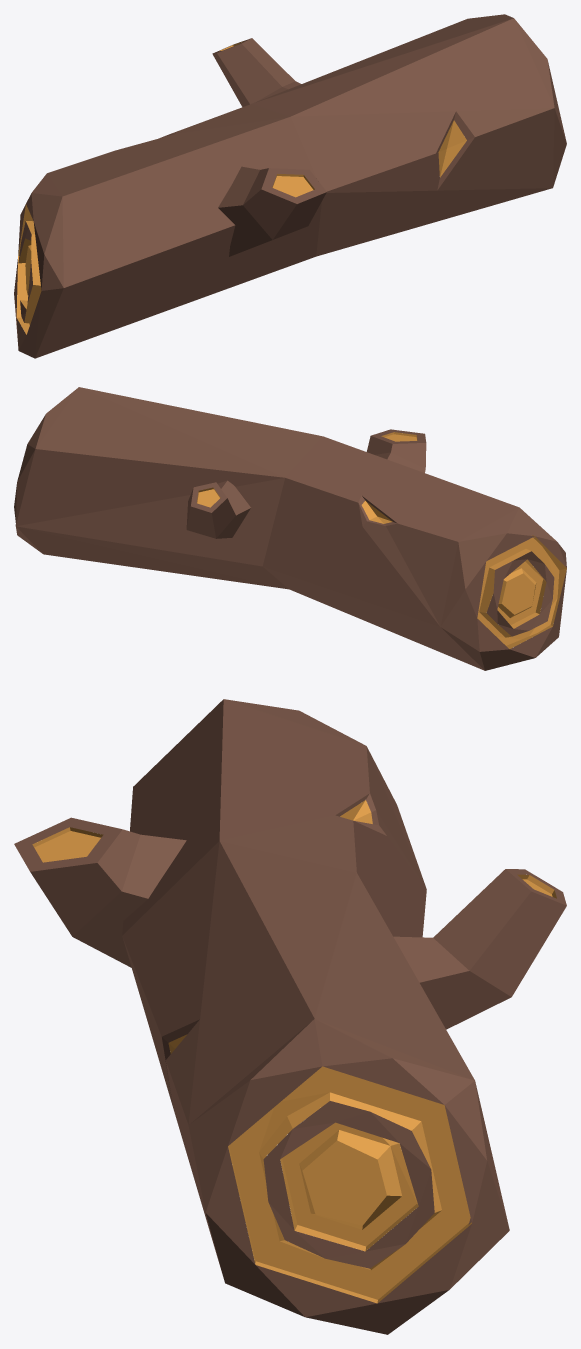
Rendered from ChoppedLog.glb.
3 views of the same model, one above another, from view 1: azimuth 30°, elevation 25°; view 2: azimuth 150°, elevation 25°; view 3: azimuth 270°, elevation 25° (orthographic). The views are drawn at different scales.
Parts seen in each view (by area): view 1: group1305922676; view 2: group1305922676; view 3: group1305922676.
Part boxes in pixels (<box>): group1305922676: <box>14,14,566,358</box>; group1305922676: <box>14,387,566,670</box>; group1305922676: <box>14,699,566,1334</box>.
Bounding box in the file's own units: 2.68 × 0.9668 × 1.41.
